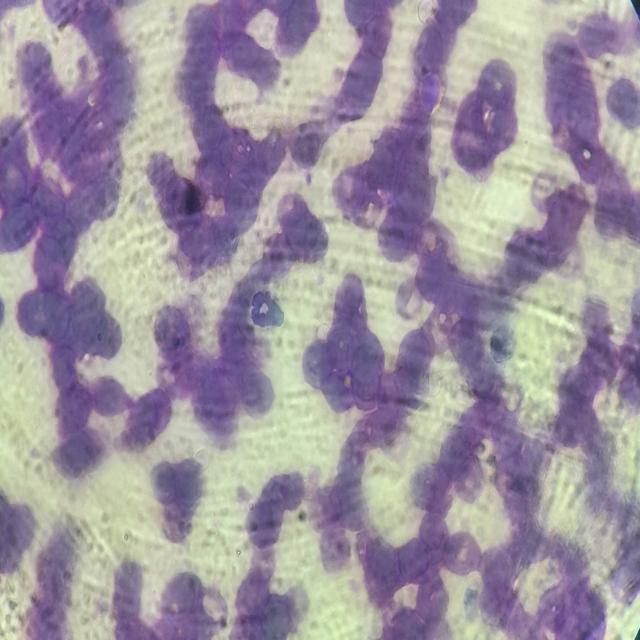Neutrofilo: (250, 291, 283, 328)
